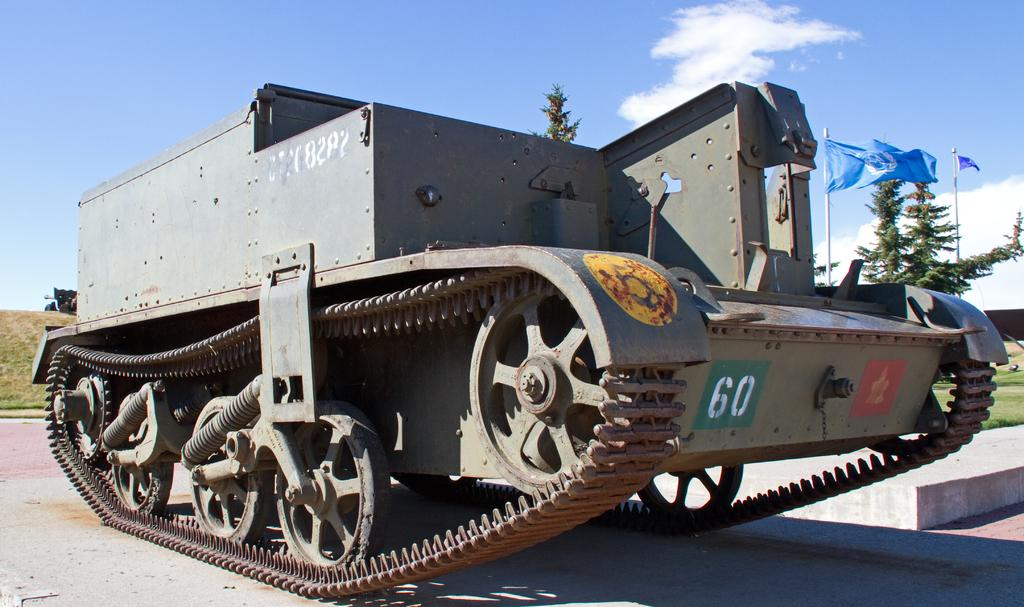Tank: (30, 81, 1007, 597)
